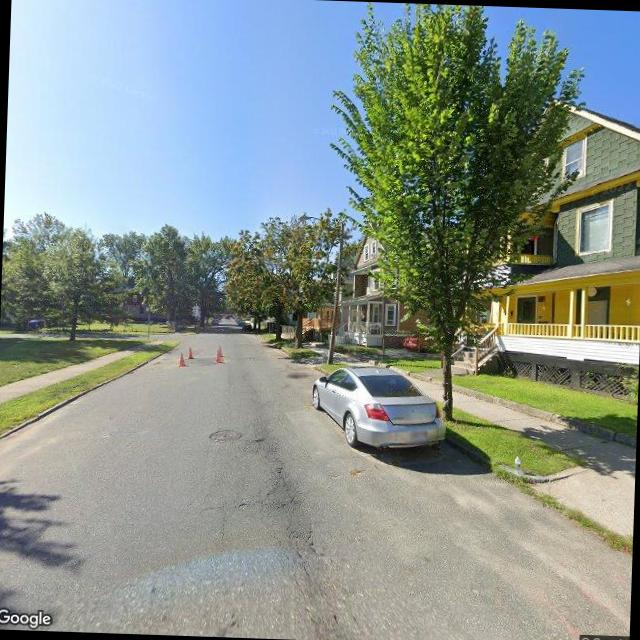crack: (207, 454, 333, 580)
